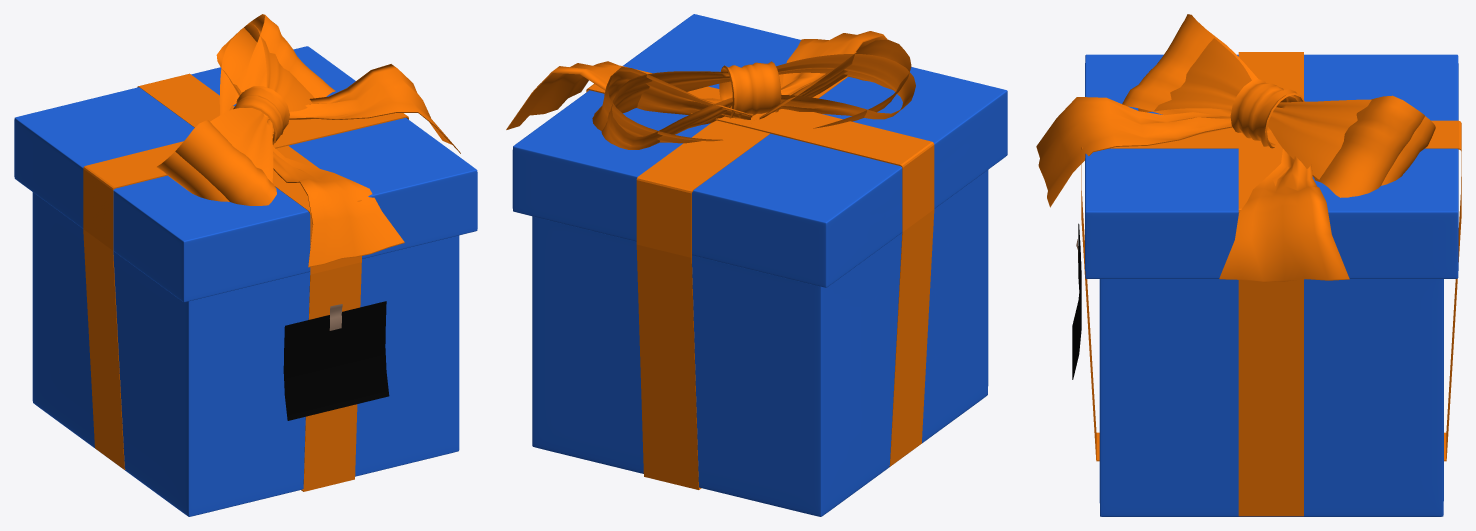
Rendered from gift6-2.glb.
3 views of the same model, side by side, from view 1: azimuth 30°, elevation 25°; view 2: azimuth 150°, elevation 25°; view 3: azimuth 270°, elevation 25° (orthographic). The views are drawn at different scales.
Parts seen in each view (by area): view 1: Cube004, Plane005, Plane012, Plane003, Plane002, Plane010, Plane009, Cylinder001; view 2: Cube004, Plane003, Plane005, Plane009, Plane010, Plane012, Cylinder001; view 3: Cube004, Plane005, Plane012, Plane009, Plane010, Plane003, Cylinder001, Plane002.
Part boxes in pixels (box(x1,y1,x2,y2)): Cube004: box(14, 46, 477, 516); Plane005: box(83, 113, 408, 469); Plane012: box(263, 64, 460, 267); Plane003: box(137, 73, 361, 491); Plane002: box(283, 301, 389, 420); Plane010: box(156, 108, 276, 205); Plane009: box(216, 14, 335, 115); Cylinder001: box(233, 86, 289, 144); Cube004: box(512, 14, 1007, 516); Plane003: box(636, 52, 856, 489); Plane005: box(586, 65, 934, 466); Plane009: box(592, 67, 753, 149); Plane010: box(759, 39, 915, 128); Plane012: box(506, 31, 887, 129); Cylinder001: box(719, 61, 781, 118); Cube004: box(1085, 54, 1458, 516); Plane005: box(1238, 52, 1303, 516); Plane012: box(1036, 97, 1349, 282); Plane009: box(1268, 95, 1435, 197); Plane010: box(1122, 14, 1258, 116); Plane003: box(1081, 120, 1461, 461); Cylinder001: box(1230, 79, 1304, 148); Plane002: box(1072, 223, 1081, 379).
Size of the model in its own units: 2.58 by 2.5 by 2.47.
